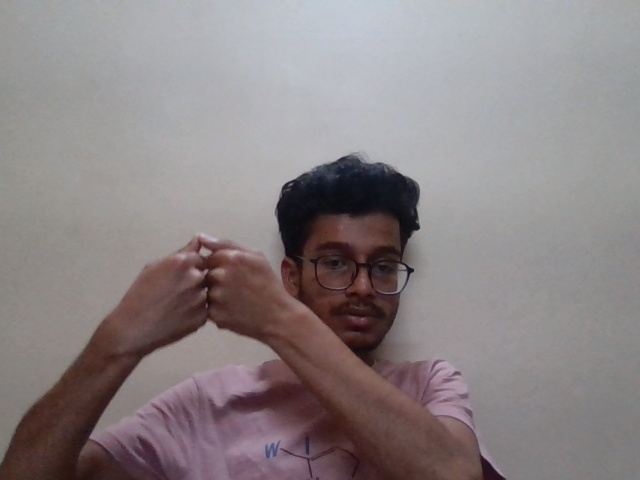sorry: (106, 223, 296, 361)
